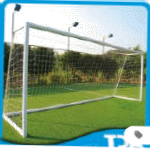goals: (4, 21, 145, 134)
